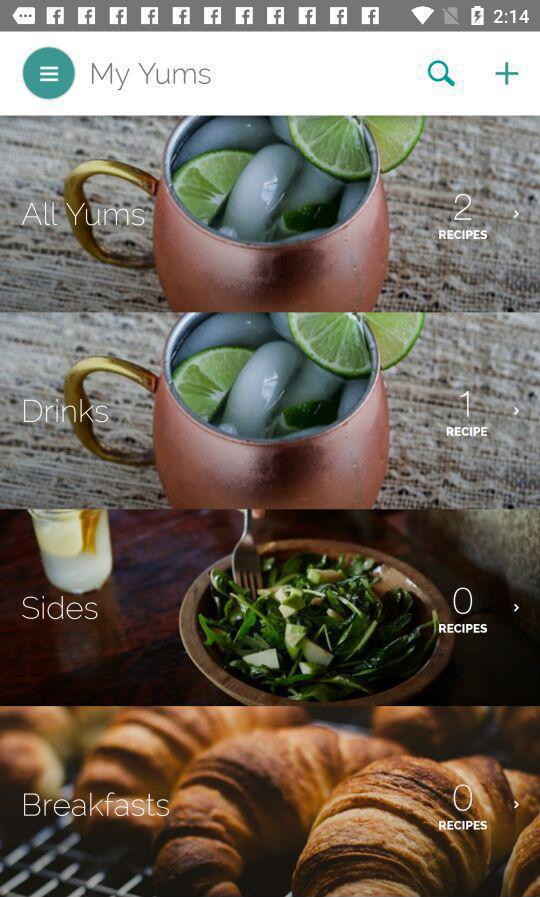Icon: (22, 48, 76, 100), (428, 59, 457, 88), (494, 62, 519, 86)
Image: (1, 509, 540, 706), (1, 312, 540, 509), (1, 117, 540, 312), (1, 706, 540, 897)
Text: (24, 791, 171, 818), (91, 62, 212, 92), (22, 201, 146, 228), (24, 398, 110, 424), (22, 596, 100, 621), (437, 623, 488, 635), (452, 587, 473, 616), (452, 783, 473, 812), (453, 193, 473, 222), (439, 820, 487, 832), (437, 230, 488, 241), (445, 426, 489, 438), (457, 390, 470, 421)
Toolbar: (1, 33, 540, 116)
UpperTaskBar: (1, 1, 540, 33)
